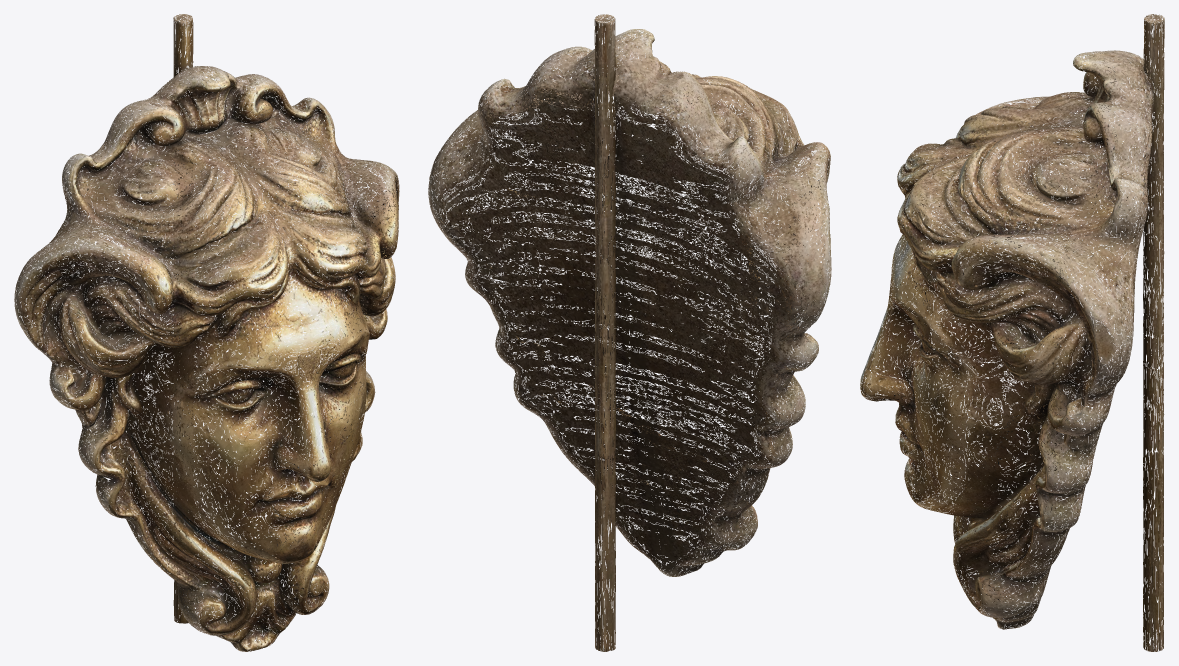
The model's file is medusa-handle-web.glb.
3 renders of one model, left to right at view 1: azimuth 30°, elevation 25°; view 2: azimuth 150°, elevation 25°; view 3: azimuth 270°, elevation 25°, orthographic. The views are drawn at different scales.
Visible parts, largest first — view 1: MedusaDoorHandle; view 2: MedusaDoorHandle; view 3: MedusaDoorHandle.
Boxes of the visible parts, box(x1,y1,x2,y2) form: MedusaDoorHandle: box(14, 14, 399, 651); MedusaDoorHandle: box(428, 14, 831, 651); MedusaDoorHandle: box(860, 14, 1164, 651).
Size of the model in its own units: 0.6462 by 0.9828 by 0.4306.
1 material, 1 textured.
